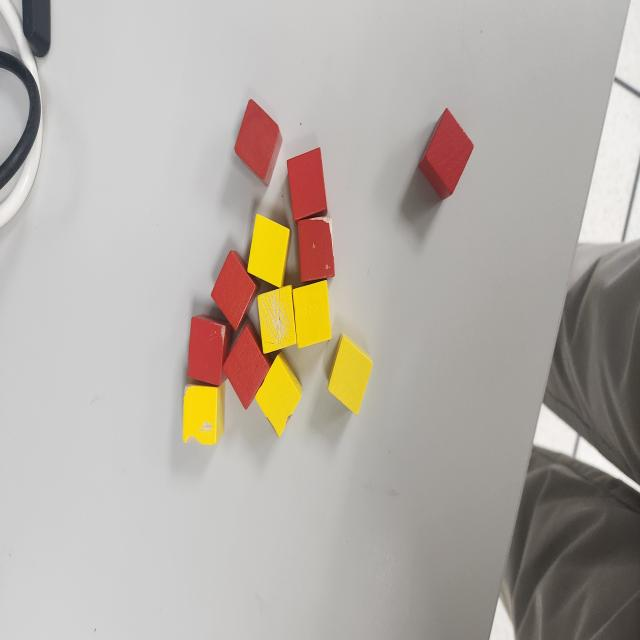broken: (255, 350, 302, 438), (187, 314, 234, 388), (257, 284, 297, 355), (182, 379, 225, 445), (296, 216, 335, 285)
red: (417, 108, 475, 200), (222, 322, 270, 412), (234, 99, 283, 187), (210, 248, 258, 333), (286, 146, 328, 225)
yellow: (327, 332, 373, 417), (247, 213, 291, 290), (292, 278, 332, 349)
